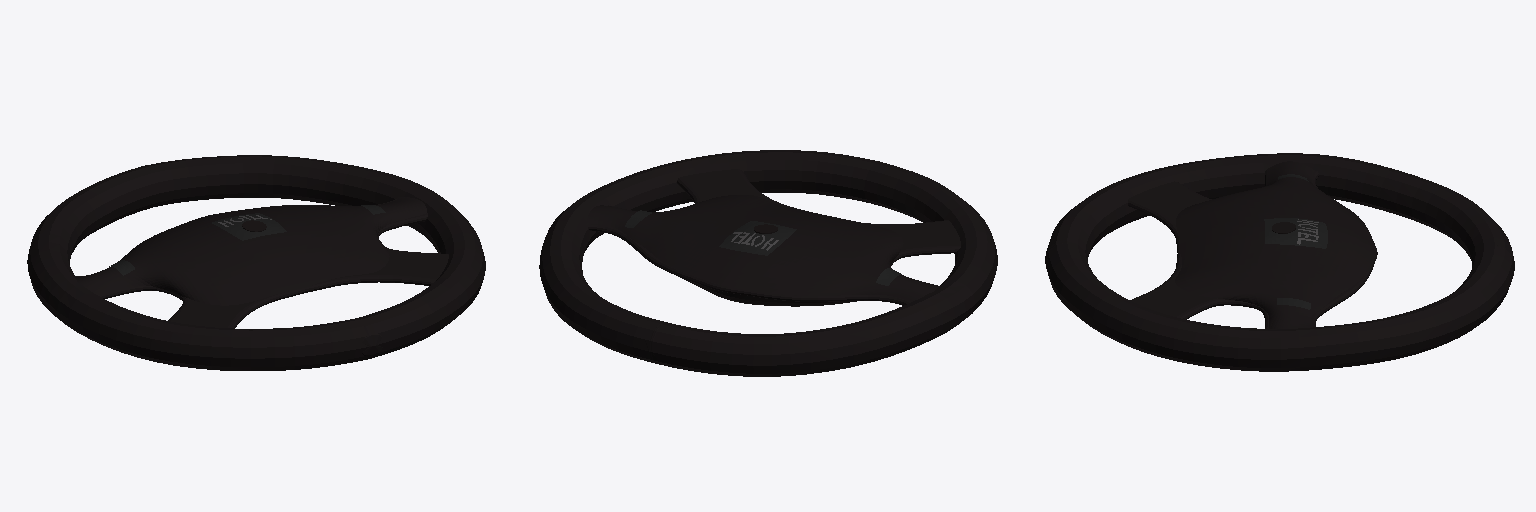
The picture shows the model from 3 angles: view 1: azimuth 30°, elevation 25°; view 2: azimuth 150°, elevation 25°; view 3: azimuth 270°, elevation 25°; orthographic projection.
Parts seen in each view (by area): view 1: s0000.17183, c0002.58622, s0000.17183.Mirror, p0001.24087.Mirror, p0001.24087, c0005.14361; view 2: s0000.17183, c0002.58622, s0000.17183.Mirror, p0001.24087, p0001.24087.Mirror, c0005.14361, c0006.99816; view 3: s0000.17183.Mirror, c0002.58622, s0000.17183, p0001.24087.Mirror, p0001.24087, c0005.14361.
Part boxes in pixels (left/top/right/bottom): s0000.17183: left=27, top=166, right=382, bottom=370; c0002.58622: left=75, top=197, right=426, bottom=305; s0000.17183.Mirror: left=144, top=155, right=485, bottom=359; p0001.24087.Mirror: left=261, top=199, right=448, bottom=292; p0001.24087: left=75, top=235, right=306, bottom=328; c0005.14361: left=212, top=213, right=286, bottom=240; s0000.17183: left=645, top=161, right=997, bottom=376; c0002.58622: left=586, top=195, right=939, bottom=301; s0000.17183.Mirror: left=539, top=150, right=881, bottom=363; p0001.24087: left=719, top=220, right=960, bottom=305; p0001.24087.Mirror: left=587, top=169, right=808, bottom=290; c0005.14361: left=719, top=221, right=796, bottom=255; c0006.99816: left=680, top=277, right=856, bottom=306; s0000.17183.Mirror: left=1045, top=240, right=1514, bottom=371; c0002.58622: left=1175, top=161, right=1374, bottom=328; s0000.17183: left=1045, top=153, right=1514, bottom=264; p0001.24087.Mirror: left=1130, top=251, right=1377, bottom=328; p0001.24087: left=1128, top=170, right=1377, bottom=252; c0005.14361: left=1264, top=218, right=1327, bottom=248.
Bounding box in the file's own units: 2.84 × 0.4023 × 2.92.